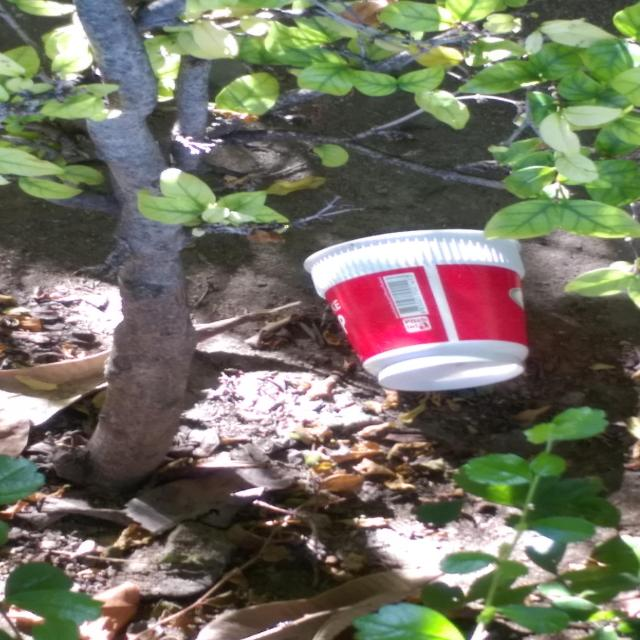litter: (303, 229, 529, 391)
